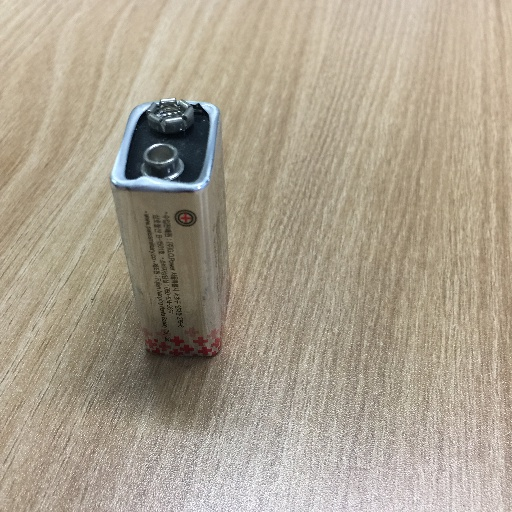Battery_3: (94, 76, 256, 392)
